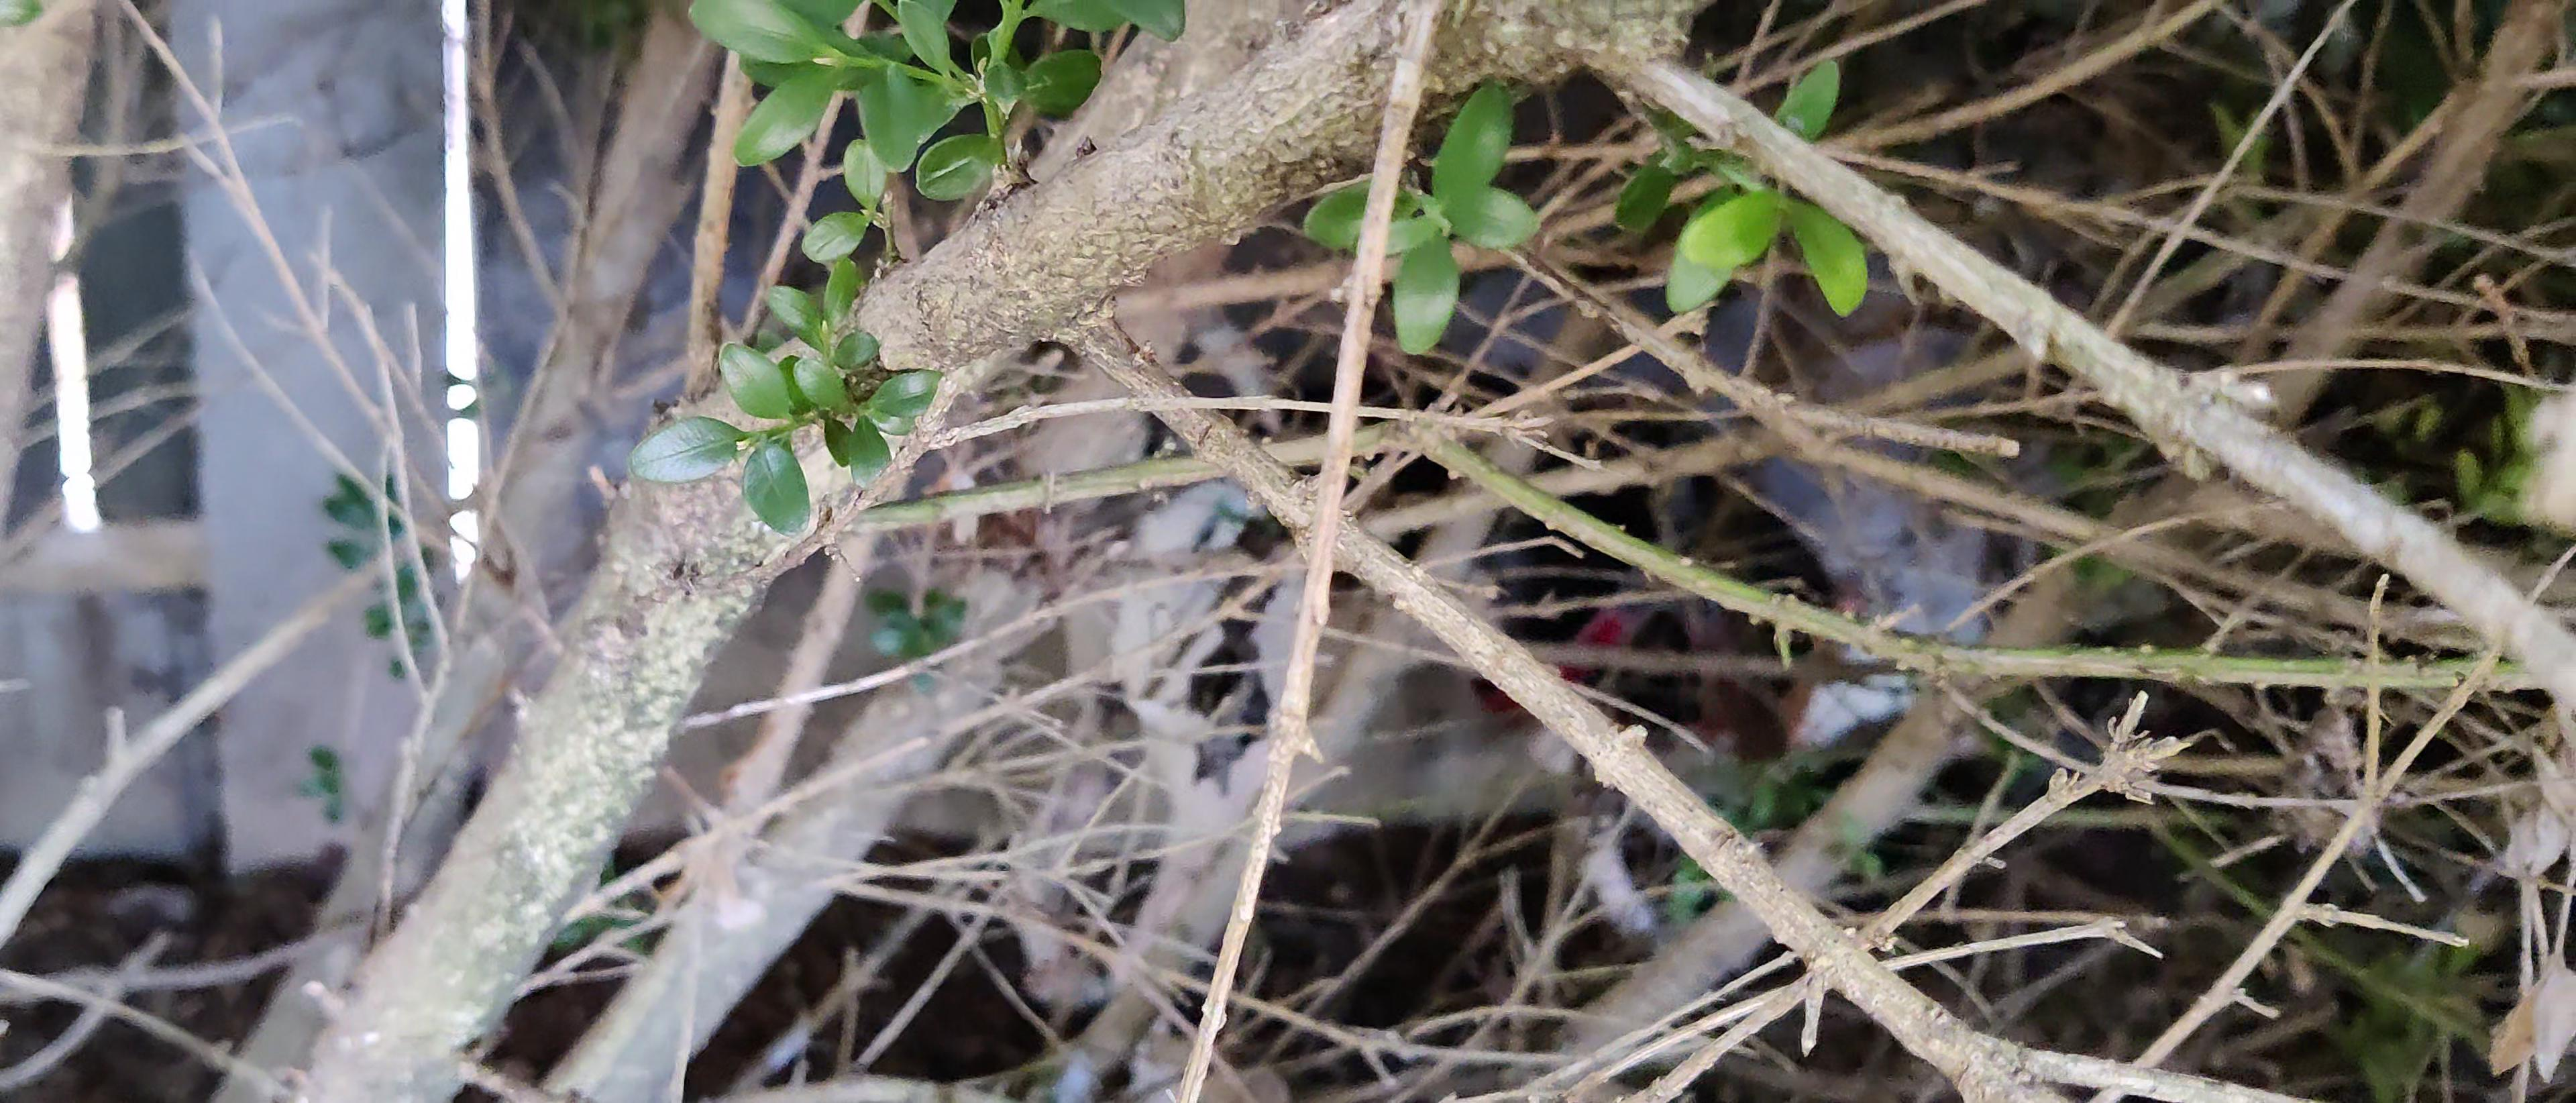Dog: (1083, 355, 1832, 968)
